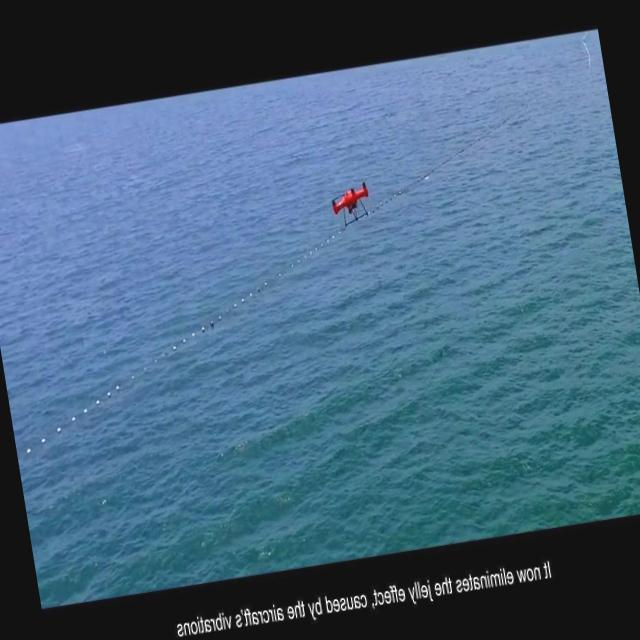drone: (330, 178, 376, 232)
